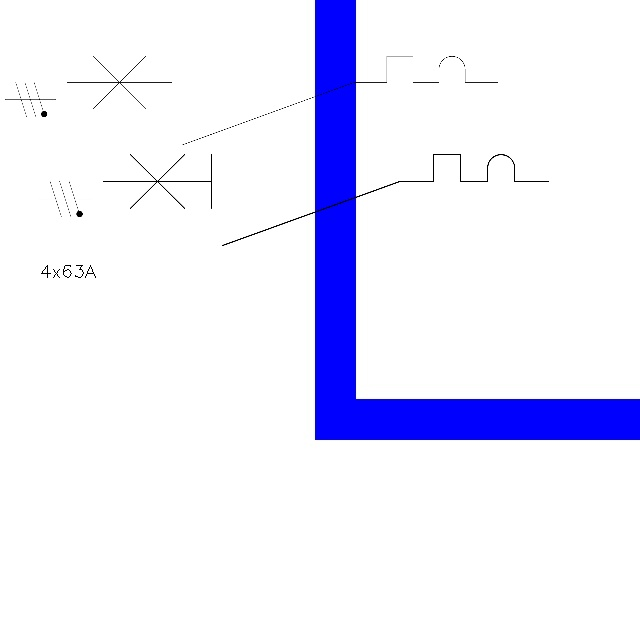interruptor_termomagnetico: (91, 143, 559, 257), (56, 45, 509, 156)
